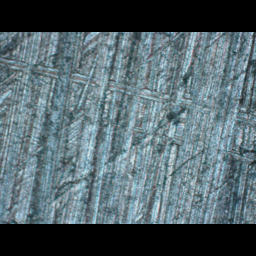d: (1, 51, 256, 167)
